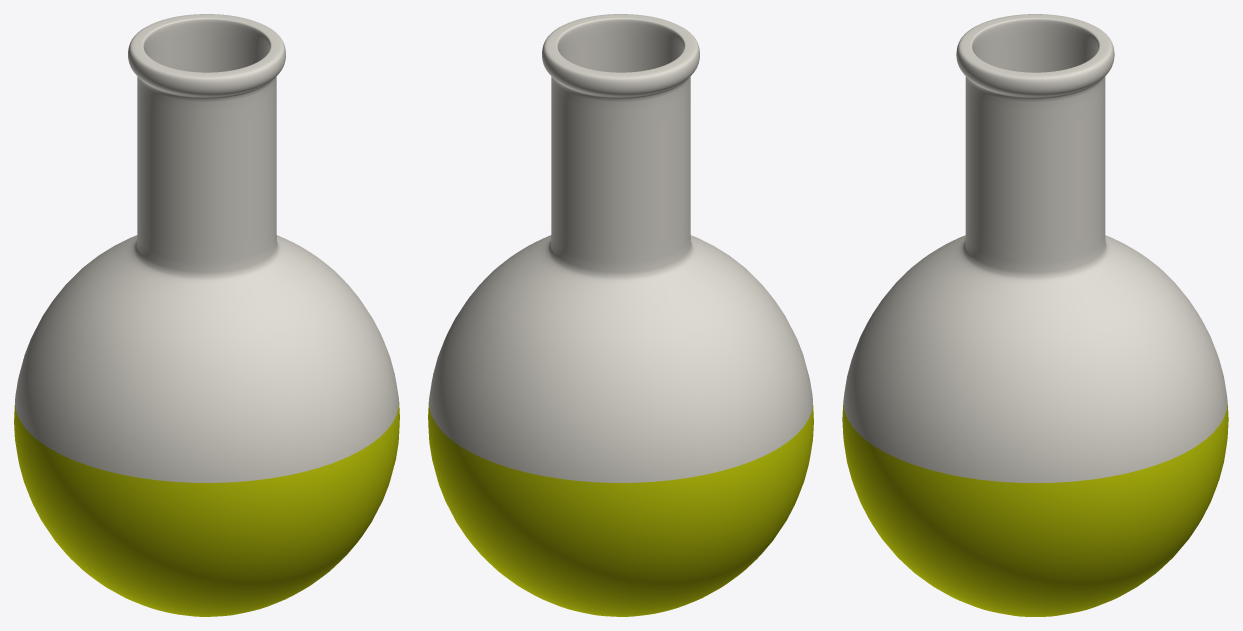
The model's file is potion_yellow.fbx.
3 renders of one model, left to right at view 1: azimuth 30°, elevation 25°; view 2: azimuth 150°, elevation 25°; view 3: azimuth 270°, elevation 25°, orthographic.
Visible parts, largest first — view 1: 17200_Round_bottom_flask; view 2: 17200_Round_bottom_flask; view 3: 17200_Round_bottom_flask.
Part boxes in pixels (left/top/right/bottom): 17200_Round_bottom_flask: left=14, top=14, right=399, bottom=616; 17200_Round_bottom_flask: left=428, top=14, right=813, bottom=616; 17200_Round_bottom_flask: left=842, top=14, right=1228, bottom=616.
Size of the model in its own units: 1185 by 1880 by 1185.
